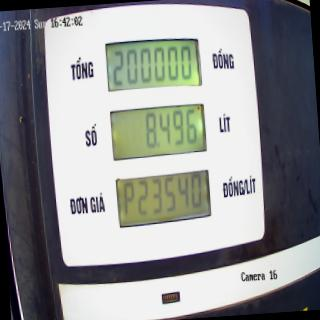screen: (102, 32, 214, 230)
